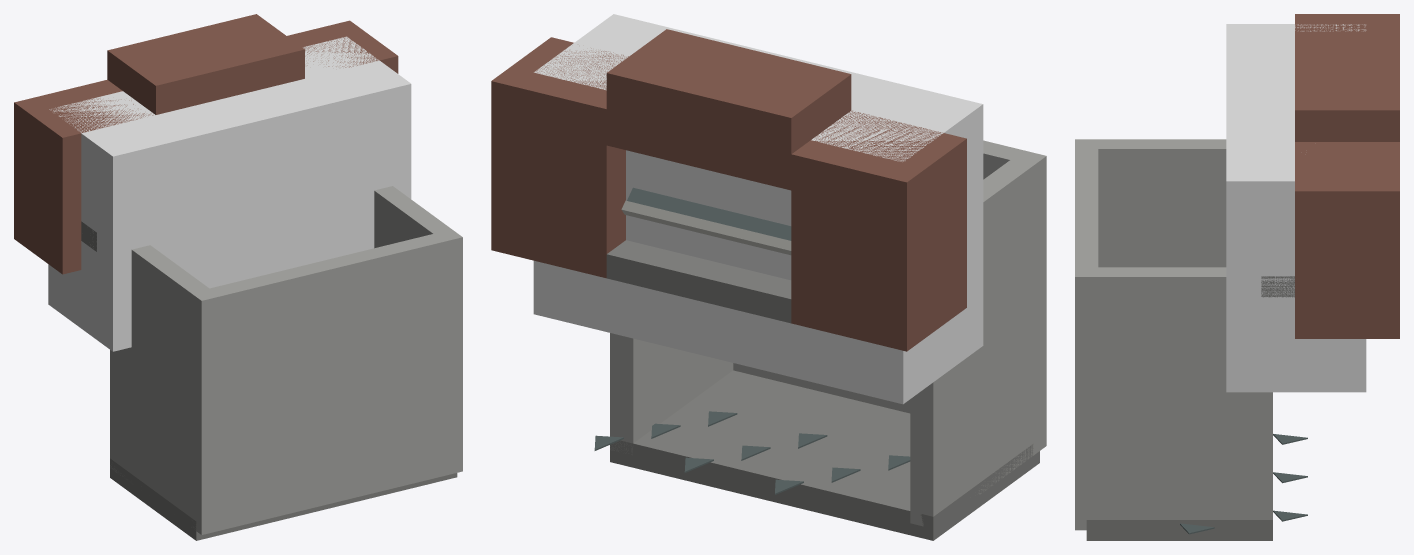
Rendered from basement_window.glb.
The picture shows the model from 3 angles, left to right: view 1: azimuth 30°, elevation 25°; view 2: azimuth 150°, elevation 25°; view 3: azimuth 270°, elevation 25°; orthographic projection. The views are drawn at different scales.
Visible parts, largest first — view 1: wall_mesh, basement_window-col; view 2: wall_mesh, basement_window-col, sash_bar, glass.001; view 3: wall_mesh, basement_window-col.
Part boxes in pixels (bbox=[...]): wall_mesh: bbox=[14, 14, 462, 540]; basement_window-col: bbox=[48, 36, 411, 351]; wall_mesh: bbox=[491, 29, 1046, 540]; basement_window-col: bbox=[533, 14, 983, 404]; sash_bar: bbox=[621, 200, 791, 255]; glass.001: bbox=[627, 187, 791, 240]; wall_mesh: bbox=[1075, 14, 1399, 540]; basement_window-col: bbox=[1226, 24, 1366, 392].
Size of the model in its own units: 1.8 by 1.9 by 1.39.
